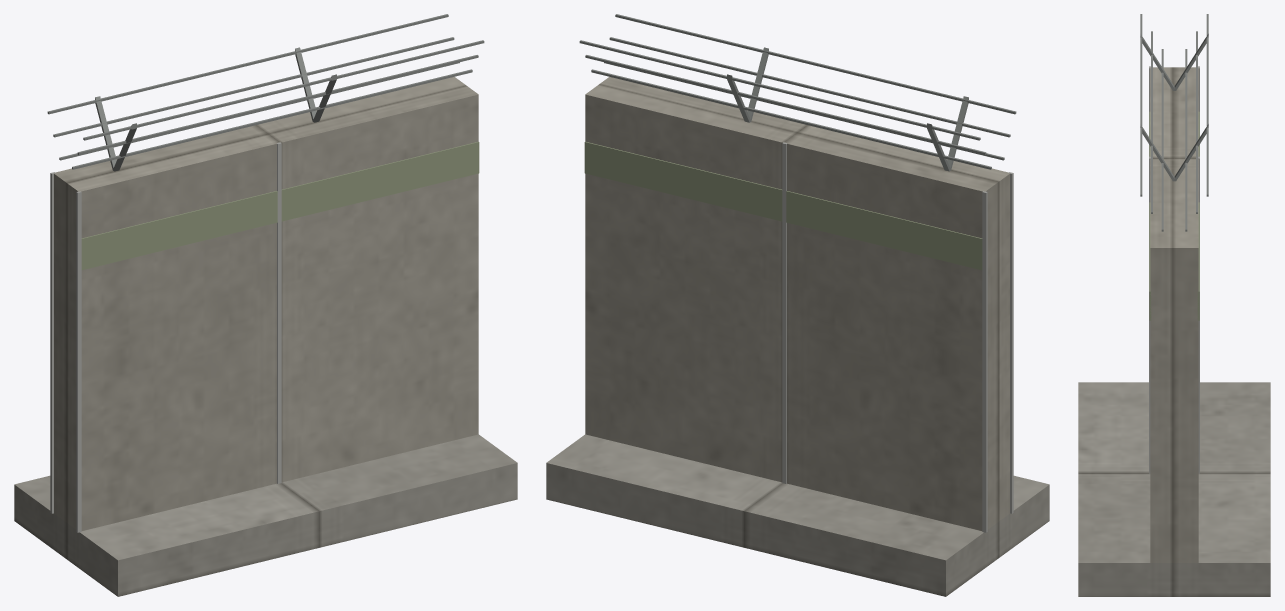
The model's file is mb-wall.garrison-v1.lod0.glb.
The picture shows the model from 3 angles, left to right: view 1: azimuth 30°, elevation 25°; view 2: azimuth 150°, elevation 25°; view 3: azimuth 270°, elevation 25°; orthographic projection. The views are drawn at different scales.
Visible parts, largest first — view 1: mb-wall; view 2: mb-wall; view 3: mb-wall.
Boxes of the visible parts, box(x1,y1,x2,y2) form: mb-wall: box(14, 14, 517, 596); mb-wall: box(546, 14, 1049, 596); mb-wall: box(1078, 14, 1270, 596).
Bounding box in the file's own units: 4.02 × 4.18 × 1.8.
Materials: 2 (1 with a texture image).
